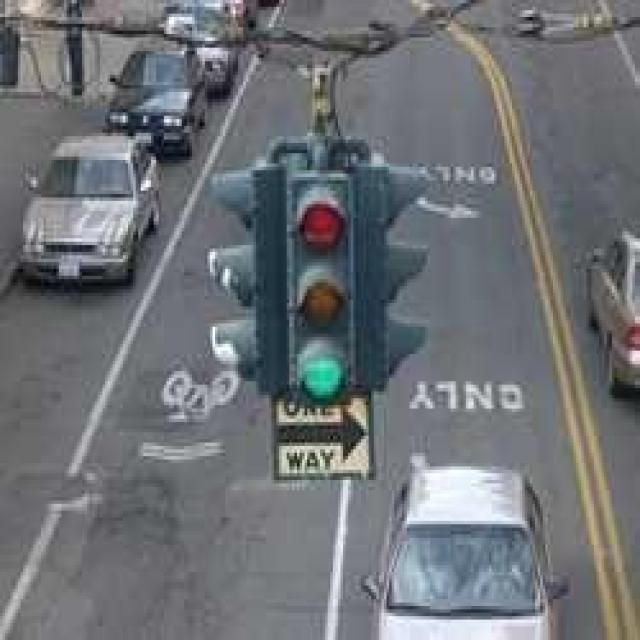Traffic Light -Green-: (282, 187, 368, 409)
